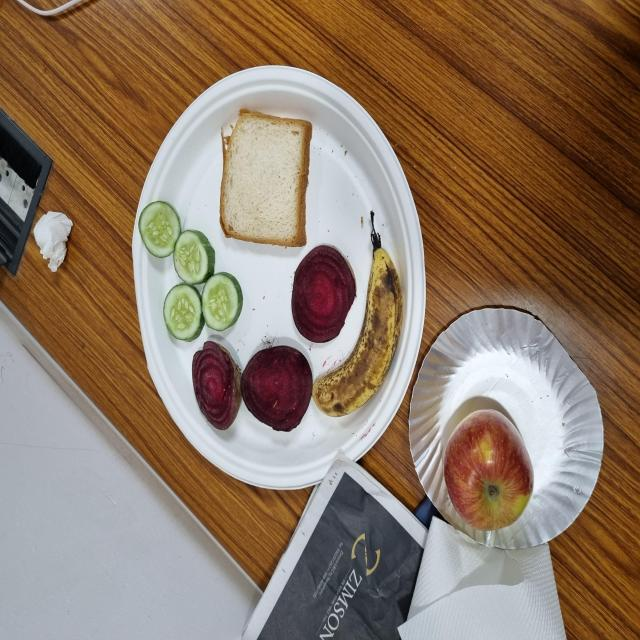apple: (80, 592, 179, 640)
banana: (167, 416, 295, 537)
cucumber: (222, 217, 269, 275), (287, 187, 332, 246), (232, 269, 277, 326), (266, 231, 310, 288)
